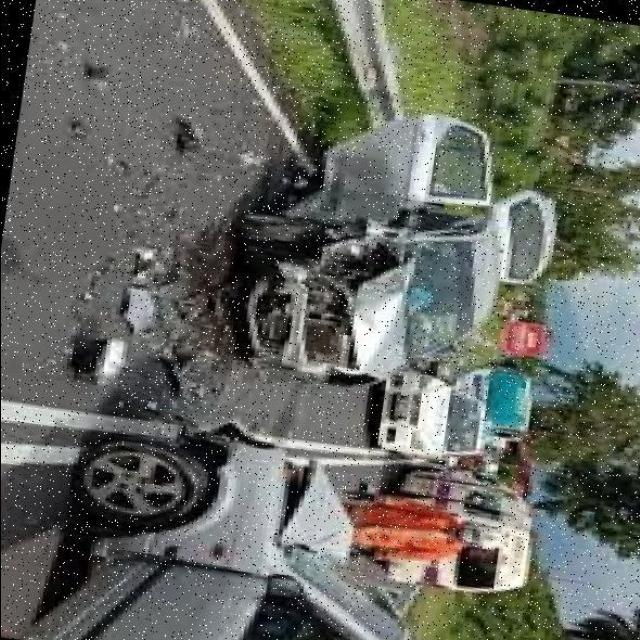accident: (193, 140, 563, 428), (69, 390, 444, 640)
